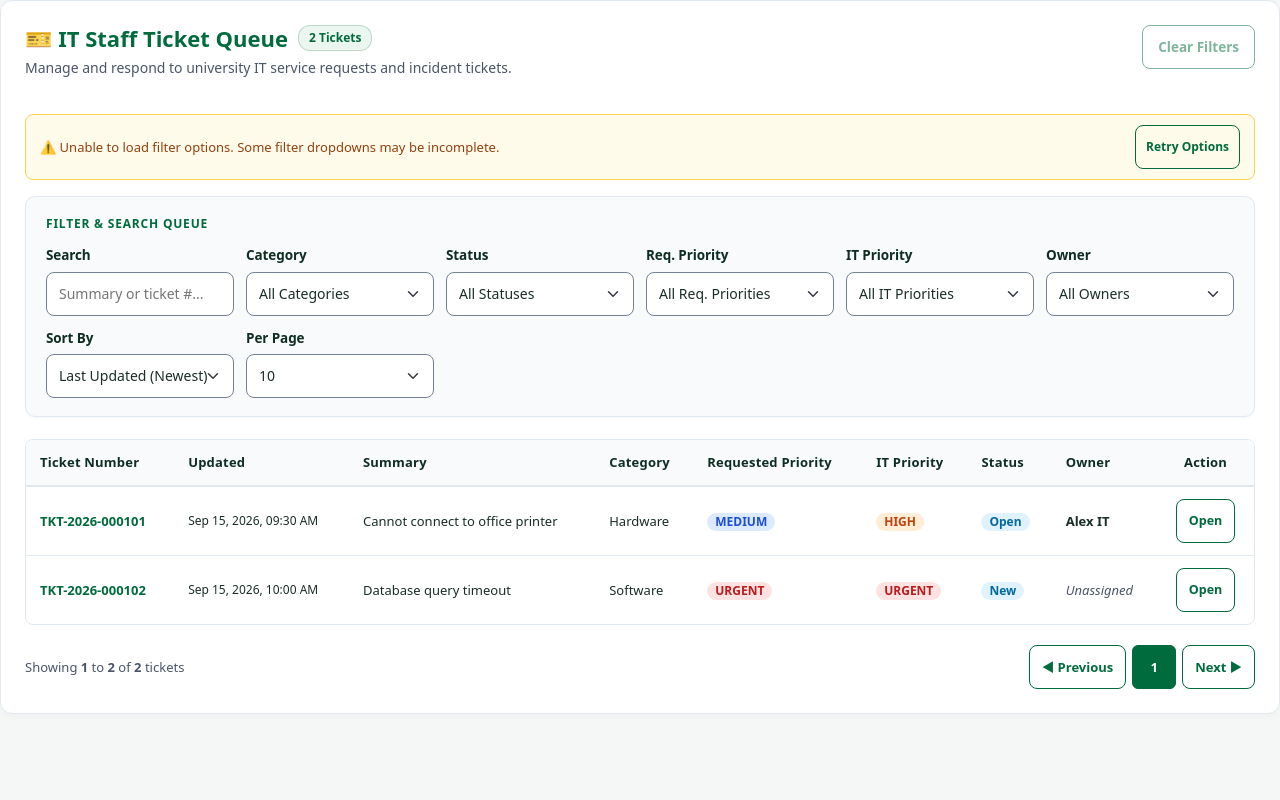
Test: UI-04: Staff Ticket Queue Component › shows reference-data warning and provides retry when categories or eligible owners fail
Check: the message with test id "queue-ref-warning" is shown, box [25,114,1255,180]
Check: the text "Unable to load filter options" is shown, box [60,138,499,156]
Click the button "Retry Options" at (1188, 147), box [1135,125,1240,169]
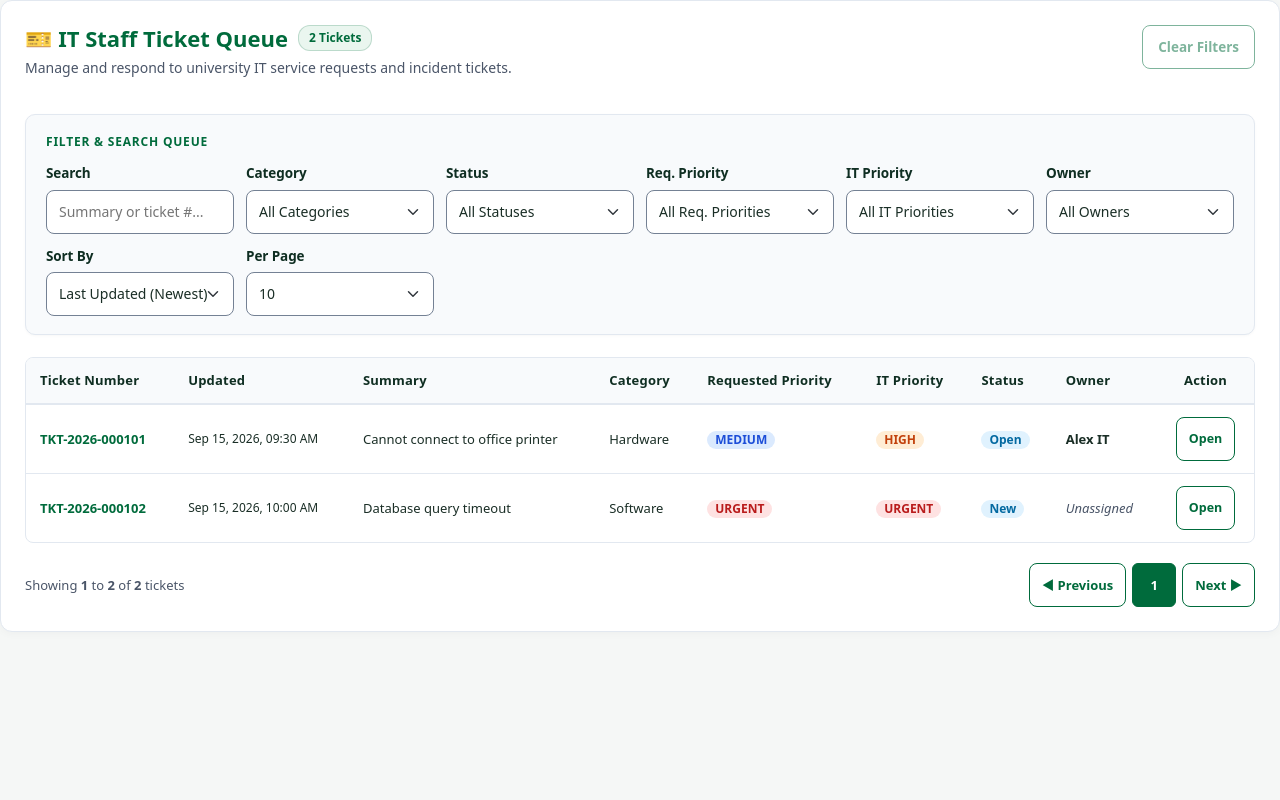
Check: the message with test id "queue-ref-warning" is gone
